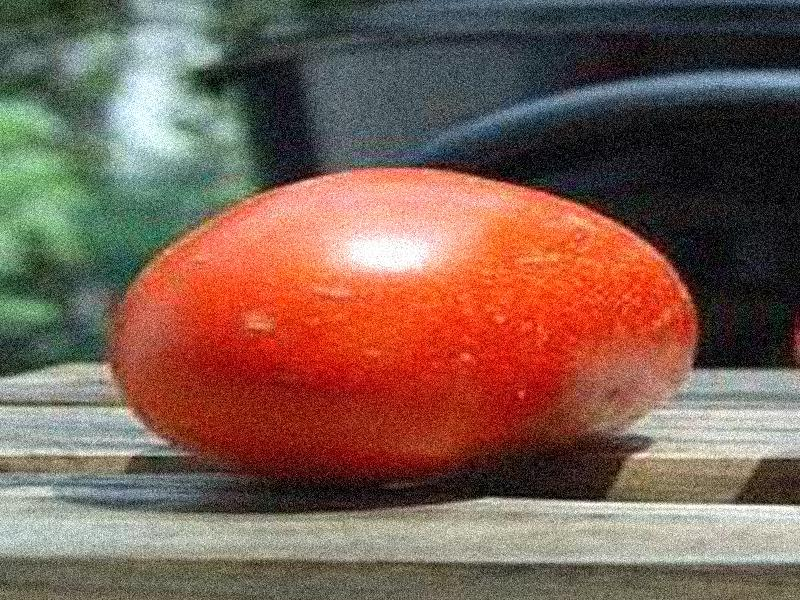Tomato: (107, 166, 696, 478)
